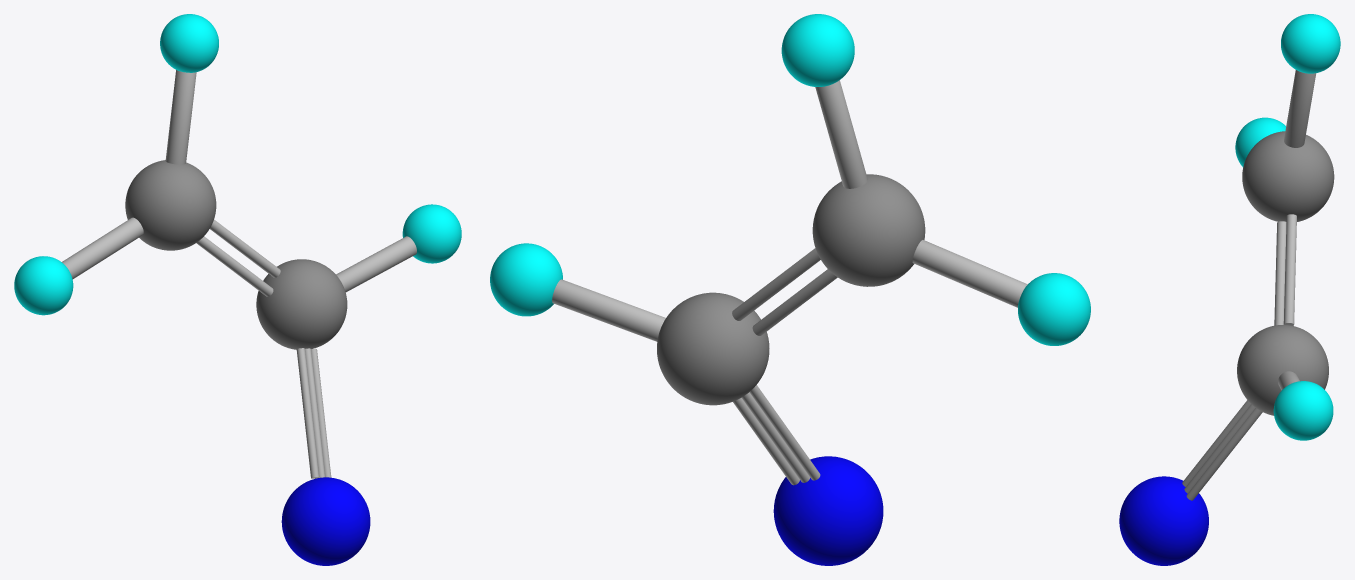
File: acrylonitrile.glb
3 views of the same model, side by side, from view 1: azimuth 30°, elevation 25°; view 2: azimuth 150°, elevation 25°; view 3: azimuth 270°, elevation 25° (orthographic). The views are drawn at different scales.
Visible parts, largest first — view 1: CMAtom_1, CMAtom_0, CMAtom_5, CMAtom_2, CMAtom_3, CMAtom_4, CMBond_4_Segment_0, CMBond_3_Segment_0, CMBond_5_Segment_0, CMBond_8_Segment_0, CMBond_2_Segment_0, CMBond_1_Segment_0 (+2 smaller); view 2: CMAtom_0, CMAtom_1, CMAtom_5, CMAtom_3, CMAtom_2, CMAtom_4, CMBond_3_Segment_0, CMBond_5_Segment_0, CMBond_4_Segment_0, CMBond_1_Segment_0, CMBond_2_Segment_0, CMBond_8_Segment_0 (+2 smaller); view 3: CMAtom_0, CMAtom_5, CMAtom_1, CMAtom_4, CMAtom_3, CMBond_4_Segment_0, CMBond_1_Segment_0, CMAtom_2, CMBond_2_Segment_0, CMBond_6_Segment_0, CMBond_7_Segment_0, CMBond_8_Segment_0.
Boxes of the visible parts, x1,y1,x2,y2 form: CMAtom_1: (256, 259, 347, 349); CMAtom_0: (125, 160, 216, 250); CMAtom_5: (281, 477, 370, 565); CMAtom_2: (14, 256, 73, 315); CMAtom_3: (160, 14, 218, 72); CMAtom_4: (402, 204, 461, 263); CMBond_4_Segment_0: (165, 70, 196, 164); CMBond_3_Segment_0: (62, 217, 143, 279); CMBond_5_Segment_0: (336, 236, 416, 292); CMBond_8_Segment_0: (296, 348, 319, 478); CMBond_2_Segment_0: (196, 236, 273, 296); CMBond_1_Segment_0: (210, 219, 280, 277); CMAtom_0: (812, 174, 925, 286); CMAtom_1: (657, 292, 769, 405); CMAtom_5: (773, 456, 883, 565); CMAtom_3: (781, 14, 854, 86); CMAtom_2: (1018, 273, 1090, 345); CMAtom_4: (490, 243, 562, 316); CMBond_3_Segment_0: (912, 240, 1027, 307); CMBond_5_Segment_0: (552, 279, 665, 341); CMBond_4_Segment_0: (815, 80, 867, 188); CMBond_1_Segment_0: (732, 248, 820, 320); CMBond_2_Segment_0: (752, 269, 837, 335); CMBond_8_Segment_0: (749, 385, 820, 480); CMAtom_0: (1242, 131, 1334, 221); CMAtom_5: (1119, 476, 1208, 565); CMAtom_1: (1237, 325, 1328, 415); CMAtom_4: (1273, 381, 1333, 440); CMAtom_3: (1281, 14, 1340, 73); CMBond_4_Segment_0: (1284, 70, 1316, 147); CMBond_1_Segment_0: (1283, 214, 1296, 325); CMAtom_2: (1235, 117, 1285, 167); CMBond_2_Segment_0: (1274, 221, 1286, 325); CMBond_6_Segment_0: (1186, 408, 1262, 500); CMBond_7_Segment_0: (1184, 404, 1255, 493); CMBond_8_Segment_0: (1182, 400, 1250, 486).
Bounding box in the file's own units: 3.58 × 3.79 × 1.48.
